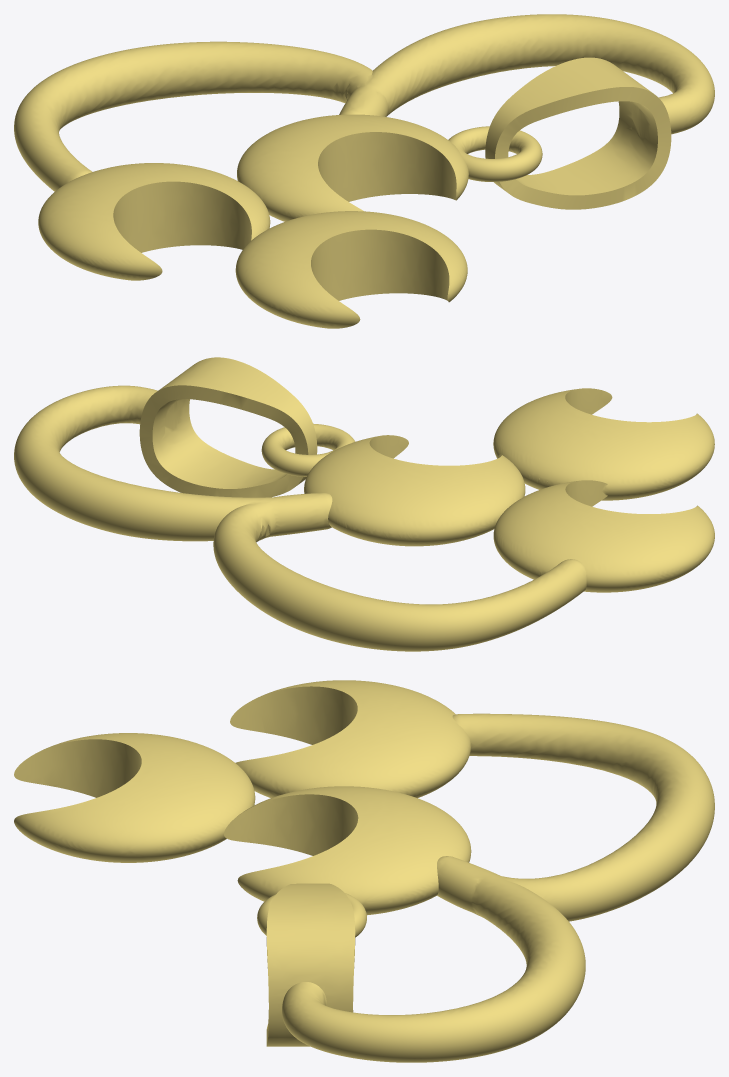
File: mhp.glb
3 renders of one model, top to bottom at view 1: azimuth 30°, elevation 25°; view 2: azimuth 150°, elevation 25°; view 3: azimuth 270°, elevation 25°, orthographic. The views are drawn at different scales.
Visible parts, largest first — view 1: Renderer Node; view 2: Renderer Node; view 3: Renderer Node.
Boxes of the visible parts, box(x1,y1,x2,y2) form: Renderer Node: box(14, 14, 714, 328); Renderer Node: box(14, 357, 714, 651); Renderer Node: box(14, 680, 714, 1062).
Size of the model in its own units: 19.98 by 3.36 by 16.56.
